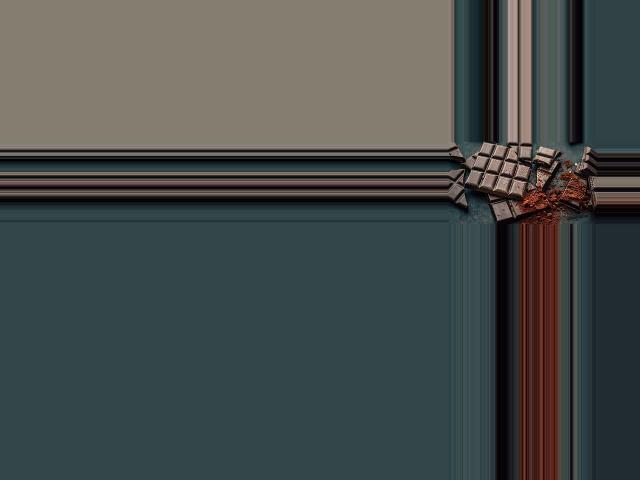chocolate: (463, 142, 529, 198)
